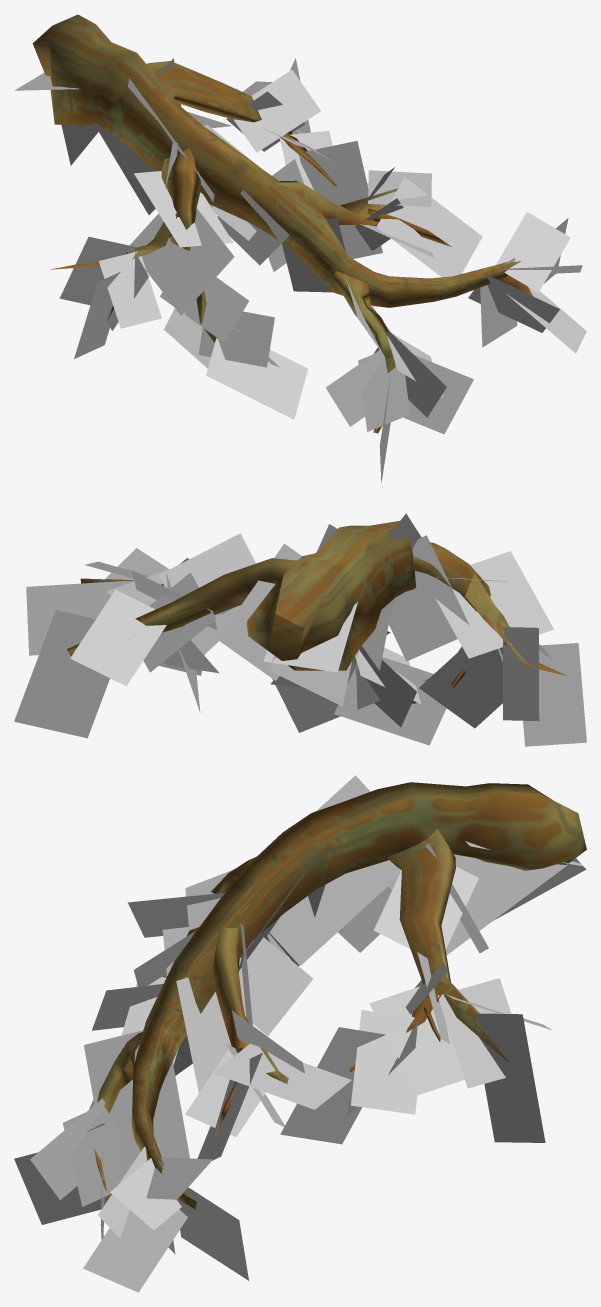
The model's file is env_forest_gianttree_root02_lod2.fbx.
3 renders of one model, top to bottom at view 1: azimuth 30°, elevation 25°; view 2: azimuth 150°, elevation 25°; view 3: azimuth 270°, elevation 25°, orthographic. The views are drawn at different scales.
Parts seen in each view (by area): view 1: root02_lod2; view 2: root02_lod2; view 3: root02_lod2.
Part boxes in pixels (x1,y1,x2,y2): root02_lod2: [14, 14, 586, 483]; root02_lod2: [14, 513, 586, 746]; root02_lod2: [14, 775, 586, 1292].
Bounding box in the file's own units: 64.98 × 41.59 × 56.
